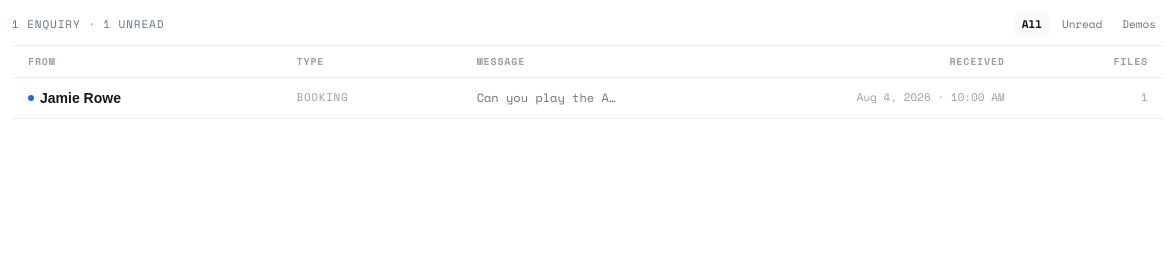
Scenario: EnquiryTable — attachments › says an attachment expired rather than showing nothing
This screenshot has width=1176, height=274.
Click the text "Jamie Rowe". click: (80, 98)
box: [40,88,121,108]
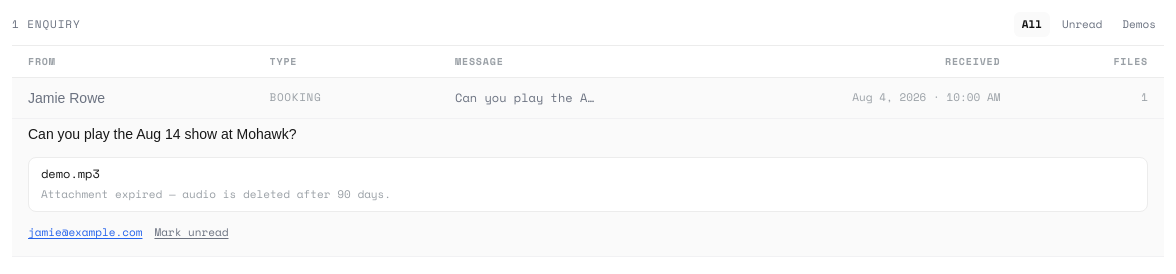
Result: the text "Attachment expired — audio is deleted after 90 days." is shown at [41,186,391,202]
